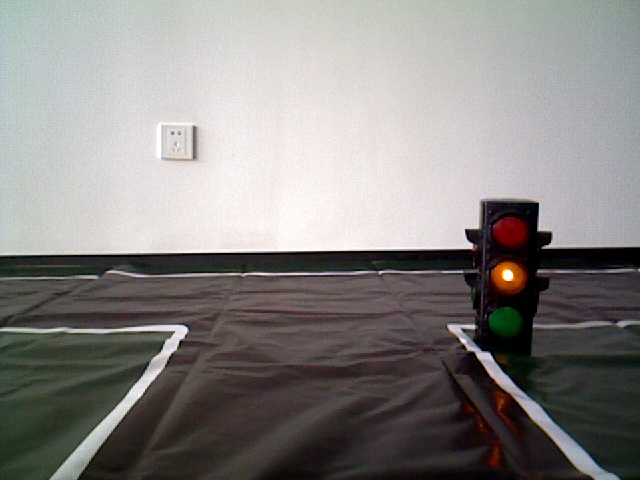yellow: (474, 207, 534, 345)
